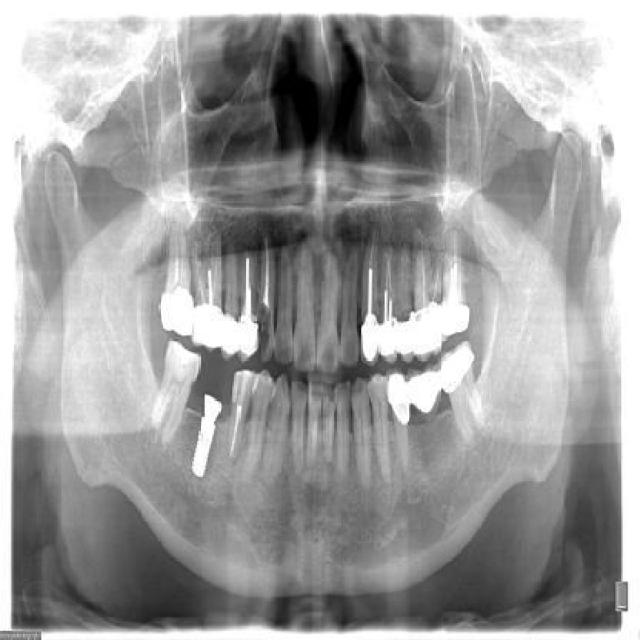dentin-curugu: (258, 305, 276, 359)
dolgu: (159, 338, 204, 384), (230, 368, 257, 407)
implant: (187, 390, 221, 481)
kanal-tedavisi: (192, 240, 218, 304), (259, 236, 278, 316), (442, 243, 466, 301), (415, 249, 440, 304), (163, 230, 186, 288), (362, 246, 379, 314), (242, 247, 258, 319), (379, 258, 397, 318), (227, 404, 245, 459)
kaplama: (438, 336, 482, 402), (155, 282, 197, 340), (413, 307, 447, 356), (440, 292, 472, 338), (195, 300, 222, 354), (386, 372, 411, 430), (359, 312, 379, 363), (237, 315, 259, 361), (221, 313, 240, 357), (378, 314, 397, 358), (396, 316, 416, 356)
kopru: (400, 355, 463, 437)
